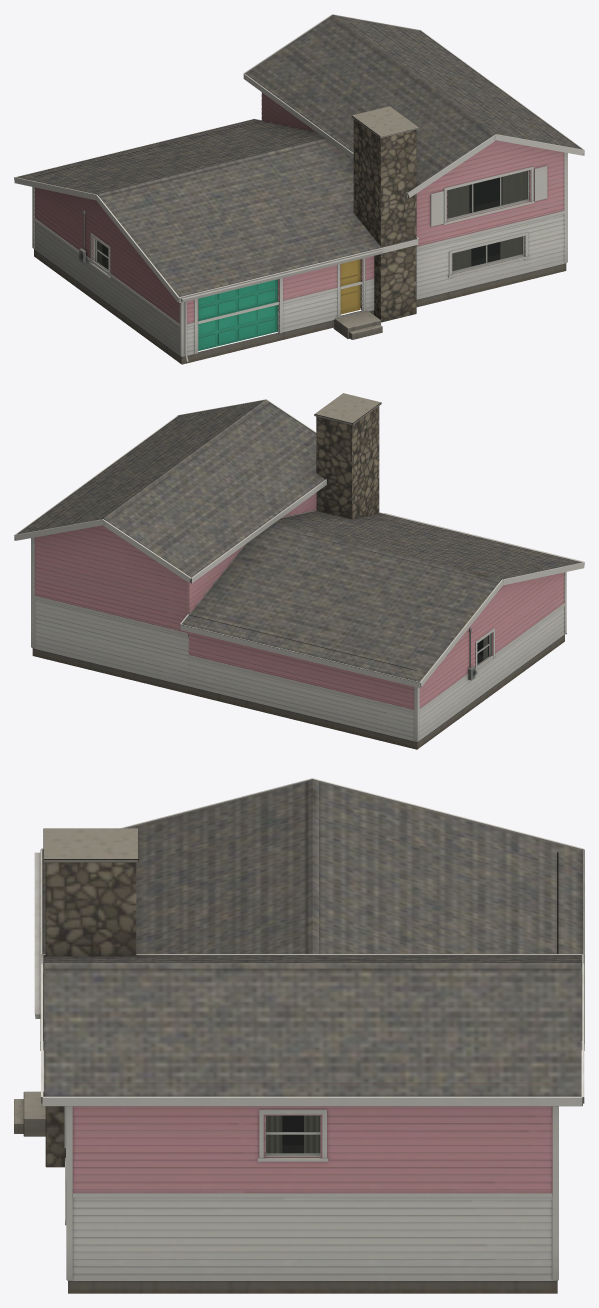
Rendered from ranch_pink.glb.
The picture shows the model from 3 angles, top to bottom: view 1: azimuth 30°, elevation 25°; view 2: azimuth 150°, elevation 25°; view 3: azimuth 270°, elevation 25°; orthographic projection. The views are drawn at different scales.
Parts seen in each view (by area): view 1: ranch_pink; view 2: ranch_pink; view 3: ranch_pink.
Part boxes in pixels (x1,y1,x2,y2): ranch_pink: (14,14,584,364); ranch_pink: (14,393,584,749); ranch_pink: (14,778,584,1293).
Size of the model in its own units: 15.86 by 7.05 by 11.66.
Materials: 2 (2 with a texture image).
